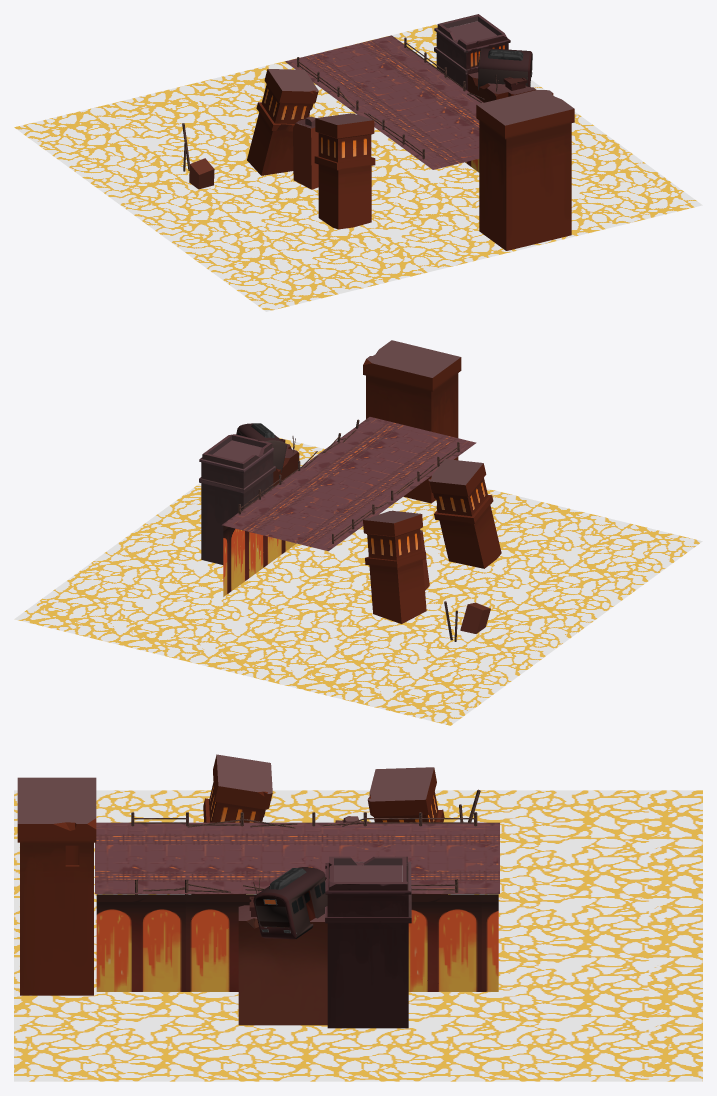
The model's file is Stage_1002_Obj_01.fbx.
3 renders of one model, top to bottom at view 1: azimuth 30°, elevation 25°; view 2: azimuth 150°, elevation 25°; view 3: azimuth 270°, elevation 25°, orthographic. The views are drawn at different scales.
Parts seen in each view (by area): view 1: Plane.002, Cube.002, Plane, Cube.045, Cube.044, Cube.007, Cube.046, Cube.017, Cube.014, Cube.008; view 2: Plane.002, Plane, Cube.002, Cube.007, Cube.044, Cube.045, Plane.001, Cube.017, Cube.008; view 3: Plane.002, Plane, Plane.001, Cube.002, Cube.007, Cube.014, Cube.045, Cube.044, Cube.017.
Boxes of the visible parts, left/top/right/bottom form: Plane.002: left=14, top=24, right=702, bottom=311; Cube.002: left=476, top=90, right=574, bottom=250; Plane: left=285, top=35, right=483, bottom=169; Cube.045: left=314, top=113, right=375, bottom=229; Cube.044: left=247, top=69, right=318, bottom=175; Cube.007: left=434, top=14, right=510, bottom=90; Cube.046: left=293, top=116, right=318, bottom=189; Cube.017: left=478, top=48, right=532, bottom=90; Cube.014: left=468, top=72, right=536, bottom=102; Cube.008: left=189, top=158, right=214, bottom=189; Plane.002: left=14, top=438, right=702, bottom=725; Plane: left=222, top=417, right=476, bottom=551; Cube.002: left=363, top=340, right=461, bottom=503; Cube.007: left=199, top=434, right=275, bottom=564; Cube.044: left=363, top=510, right=426, bottom=623; Cube.045: left=428, top=459, right=501, bottom=568; Plane.001: left=223, top=525, right=296, bottom=596; Cube.017: left=236, top=423, right=286, bottom=472; Cube.008: left=460, top=602, right=490, bottom=633; Plane.002: left=14, top=790, right=702, bottom=1081; Plane: left=95, top=822, right=499, bottom=893; Plane.001: left=96, top=894, right=498, bottom=991; Cube.002: left=17, top=777, right=96, bottom=995; Cube.007: left=325, top=856, right=411, bottom=1028; Cube.014: left=238, top=905, right=327, bottom=1025; Cube.045: left=191, top=754, right=272, bottom=894; Cube.044: left=367, top=767, right=447, bottom=894; Cube.017: left=253, top=867, right=327, bottom=939.
Bounding box in the file's own units: 3512 × 1113 × 3512.
